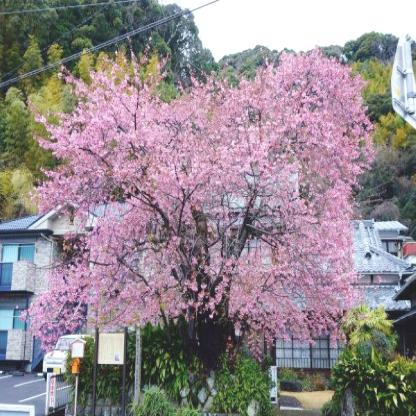KawazuSakura: (26, 40, 378, 374)
